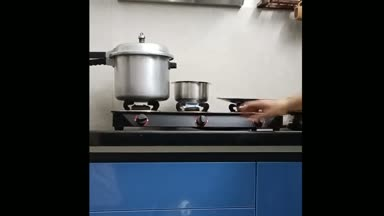flame_gas_off: (122, 100, 155, 127)
flame_gas_on: (179, 101, 209, 128)
